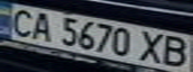0: (112, 25, 136, 57)
5: (54, 16, 81, 47)
6: (75, 19, 96, 51)
7: (93, 21, 115, 54)
A: (27, 10, 57, 42)
B: (157, 34, 190, 69)
C: (3, 6, 39, 37)
X: (136, 28, 169, 64)
